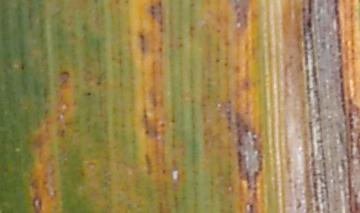tarspot: (94, 79, 104, 88), (233, 64, 240, 73), (19, 63, 26, 72), (158, 121, 165, 129), (85, 91, 93, 97), (143, 128, 149, 136), (214, 57, 220, 65), (214, 28, 221, 34)
